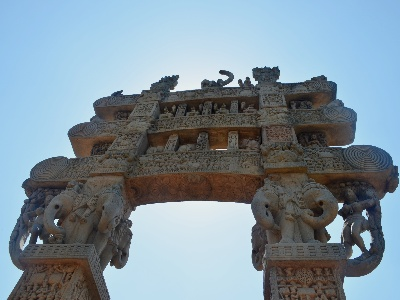torana: (27, 66, 393, 283)
